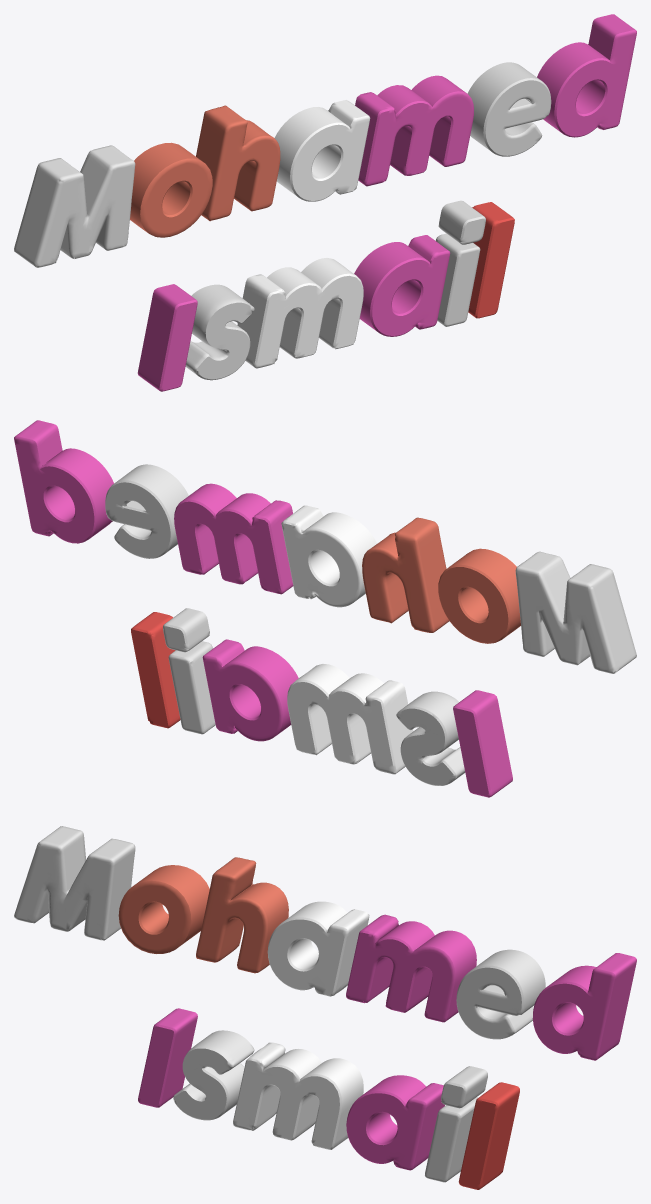
File: name.glb
3 views of the same model, one above another, from view 1: azimuth 30°, elevation 25°; view 2: azimuth 150°, elevation 25°; view 3: azimuth 330°, elevation 25° (orthographic).
Parts seen in each view (by area): view 1: Retopo_Text.003; view 2: Retopo_Text.003; view 3: Retopo_Text.003.
Boxes of the visible parts, <box> form: Retopo_Text.003: <box>14,14,636,391</box>; Retopo_Text.003: <box>14,420,636,797</box>; Retopo_Text.003: <box>14,826,636,1189</box>.
Size of the model in its own units: 5.5 by 2.21 by 0.4771.
